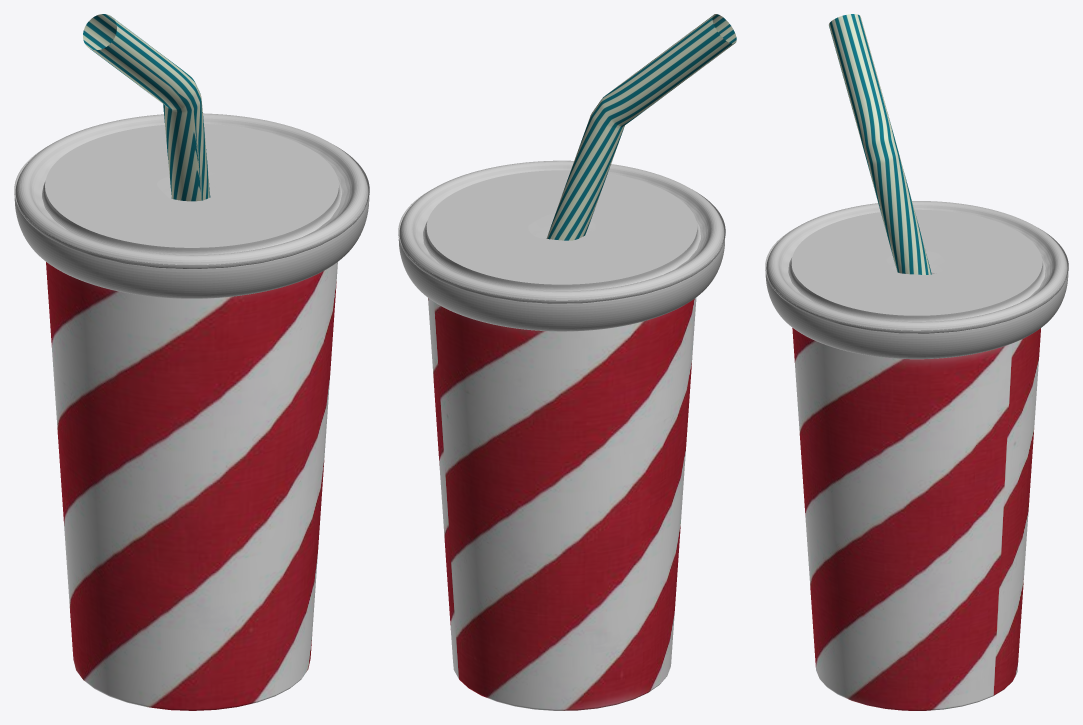
File: paper_cup.fbx
The picture shows the model from 3 angles, left to right: view 1: azimuth 30°, elevation 25°; view 2: azimuth 150°, elevation 25°; view 3: azimuth 270°, elevation 25°; orthographic projection. The views are drawn at different scales.
Parts seen in each view (by area): view 1: pití, Vršek, slanka; view 2: pití, Vršek, slanka; view 3: pití, Vršek, slanka.
Part boxes in pixels (box(x1,y1,x2,y2)): pití: box(46, 197, 337, 710); Vršek: box(14, 113, 369, 298); slanka: box(83, 14, 210, 201); pití: box(428, 238, 696, 710); Vršek: box(398, 160, 725, 331); slanka: box(546, 14, 736, 240); pití: box(792, 272, 1040, 710); Vršek: box(765, 201, 1068, 359); slanka: box(829, 14, 931, 274).
Size of the model in its own units: 290 by 636 by 290.
